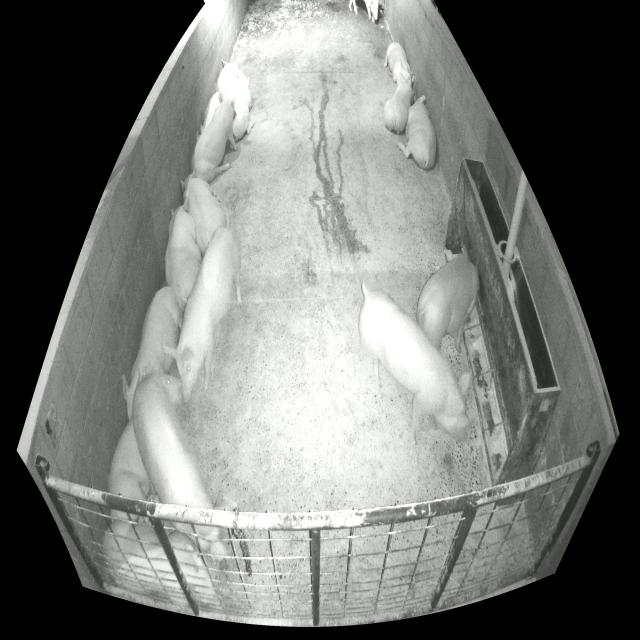pig: (359, 281, 470, 447), (164, 226, 241, 403), (132, 373, 212, 509), (103, 519, 215, 609), (122, 287, 182, 419), (416, 255, 480, 353), (190, 87, 237, 184), (165, 199, 202, 315), (181, 171, 226, 258), (108, 420, 149, 500), (216, 60, 254, 142), (397, 95, 436, 169), (385, 75, 415, 134), (384, 42, 411, 86), (201, 92, 220, 135)
